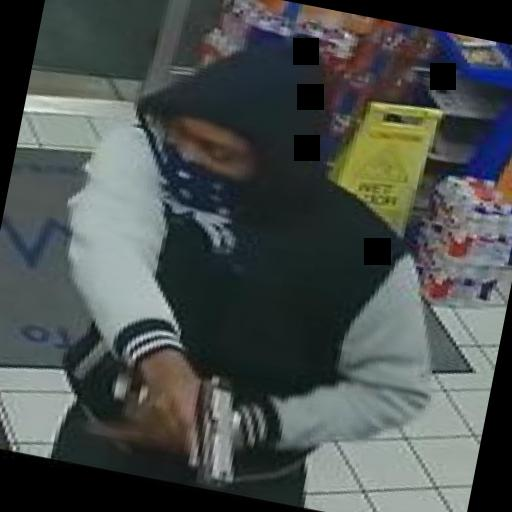Handgun: (118, 356, 252, 492)
